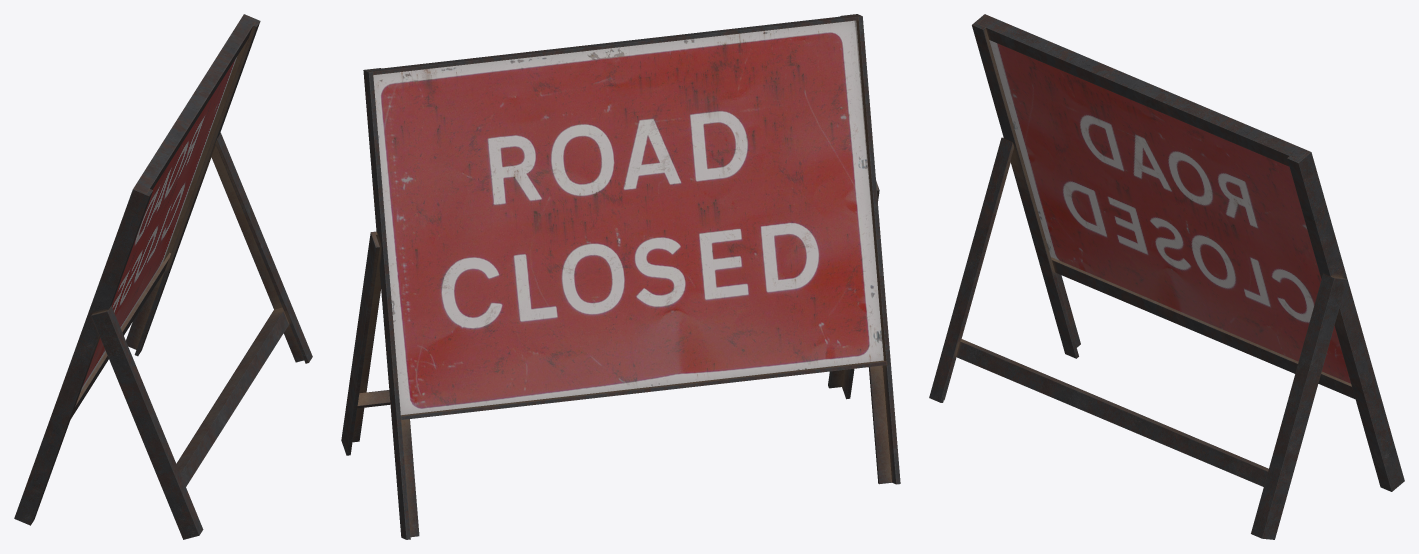
Rendered from road-closed-sign-old.glb.
3 views of the same model, side by side, from view 1: azimuth 30°, elevation 25°; view 2: azimuth 150°, elevation 25°; view 3: azimuth 270°, elevation 25° (orthographic). The views are drawn at different scales.
Visible parts, largest first — view 1: Object_58, Object_61, Object_64; view 2: Object_64, Object_58, Object_61; view 3: Object_64, Object_58, Object_61.
Boxes of the visible parts, <box> form: Object_58: <box>14,14,260,525</box>; Object_61: <box>91,132,312,539</box>; Object_64: <box>80,56,237,391</box>; Object_64: <box>373,20,883,415</box>; Object_58: <box>363,14,900,539</box>; Object_61: <box>341,180,879,455</box>; Object_64: <box>989,40,1350,383</box>; Object_58: <box>972,14,1404,491</box>; Object_61: <box>929,137,1347,539</box>.
Size of the model in its own units: 0.9367 by 0.8102 by 0.9342.
1 material, 1 textured.
